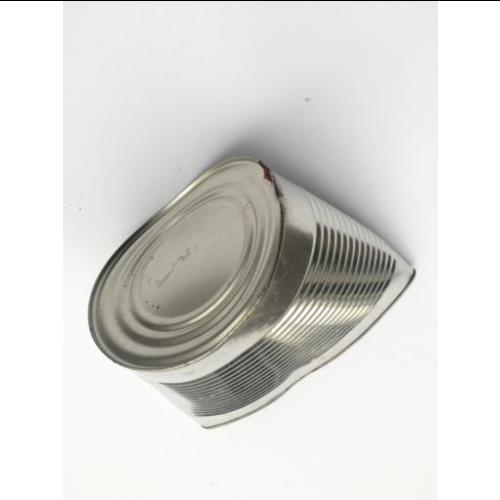metal: (90, 162, 416, 430)
